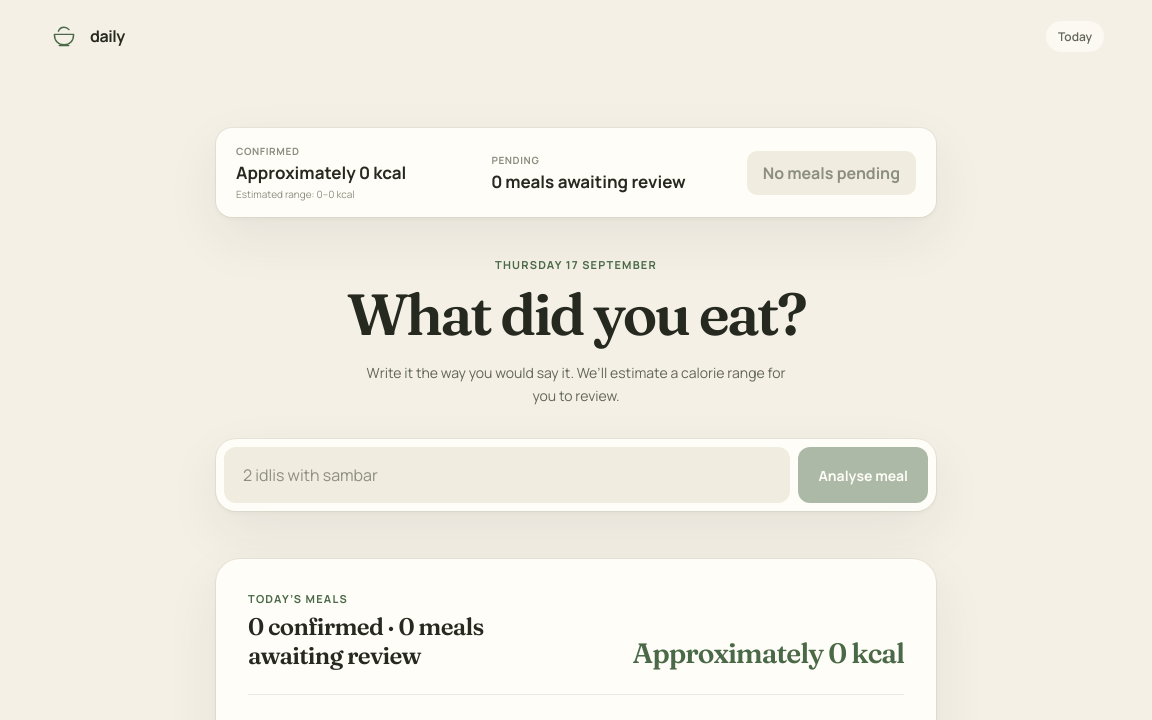
it: Daily Meal Log V2 P0 › confirms a meal, updates only the confirmed total, and shows success
Type "1 katori rice" into the field named "What did you eat?". click: coordinates (507, 475)
box: 224,447 -> 790,503
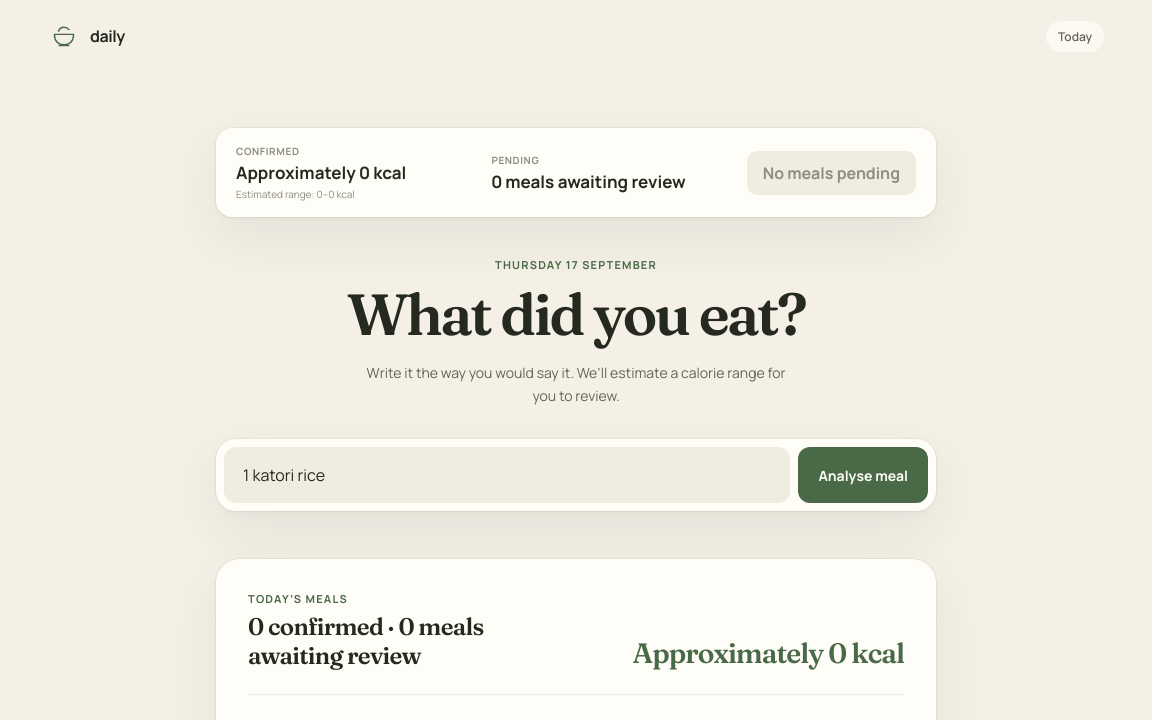
Click the button "Analyse meal". click: coordinates (863, 475)
box: 798,447 -> 928,503
(page scrolled)
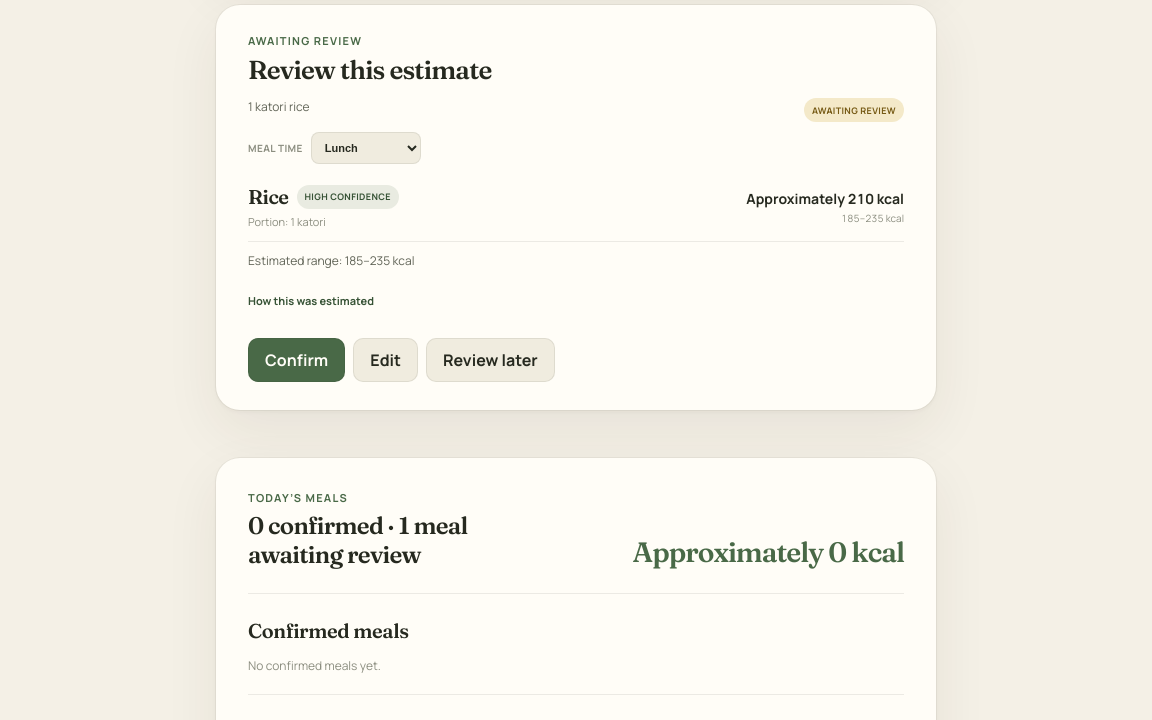
Click the button "Confirm". click: coordinates (297, 360)
box: 248,338 -> 345,382
(page scrolled)
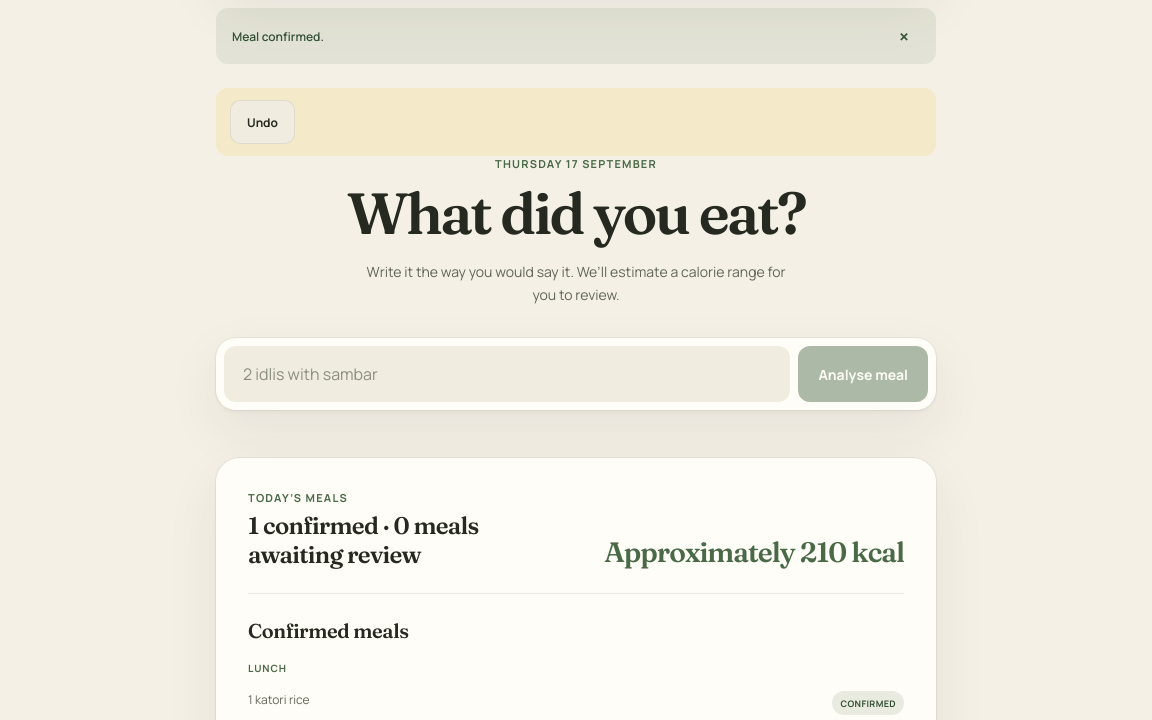
Check: the heading "Confirmed meals" is shown, box 248,618 -> 408,643
Check: the text "Meal confirmed." is shown, box 232,28 -> 324,44
